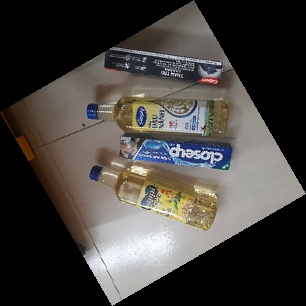CloseUp Tuyet: (118, 133, 233, 174)
Colgate Than: (101, 45, 225, 91)
Happy Soya: (88, 160, 221, 233)
Simply: (84, 97, 232, 137)
